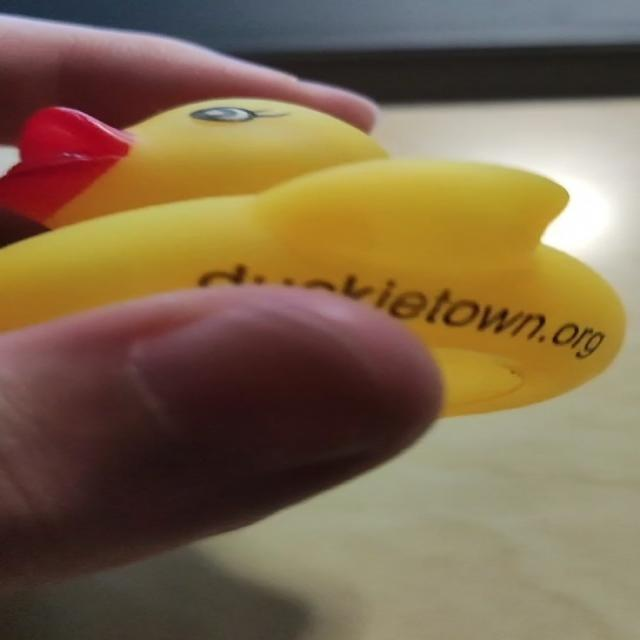rubber-duck: (0, 158, 623, 413)
